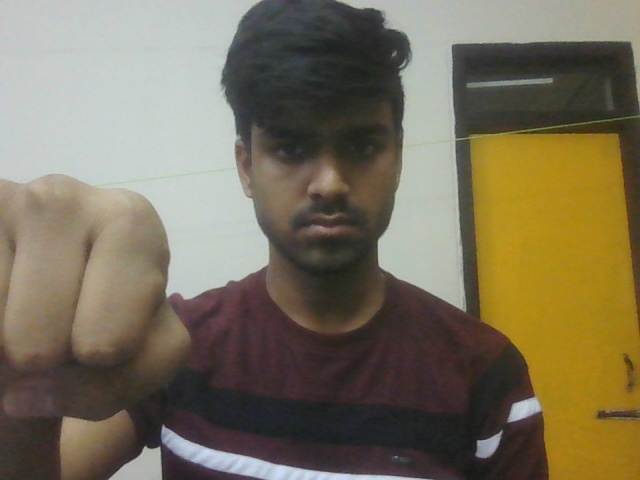yes: (1, 163, 202, 435)
